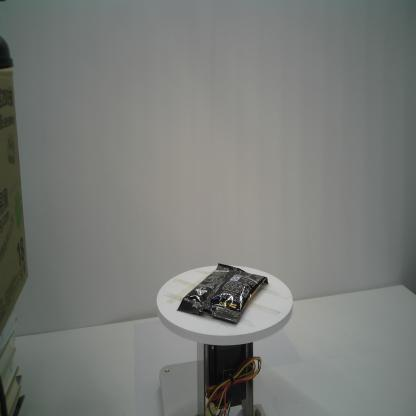Instant Drink: (177, 262, 268, 323)
